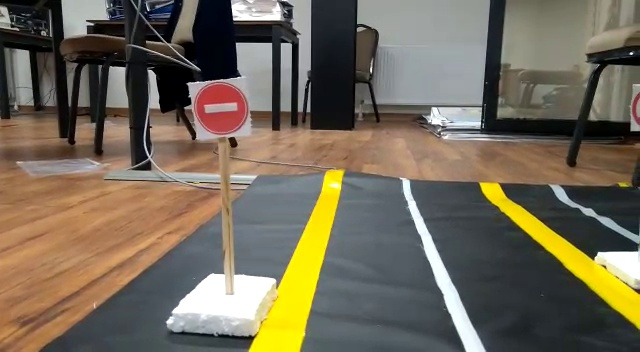girisi_olmayan_yol: (190, 79, 250, 134)
